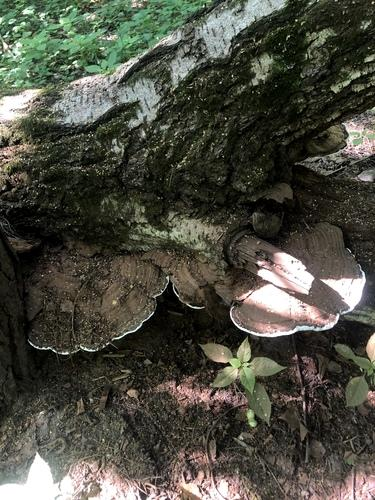Ganoderma - Fruit Body: (19, 238, 168, 359), (221, 220, 364, 337), (302, 110, 363, 165)
